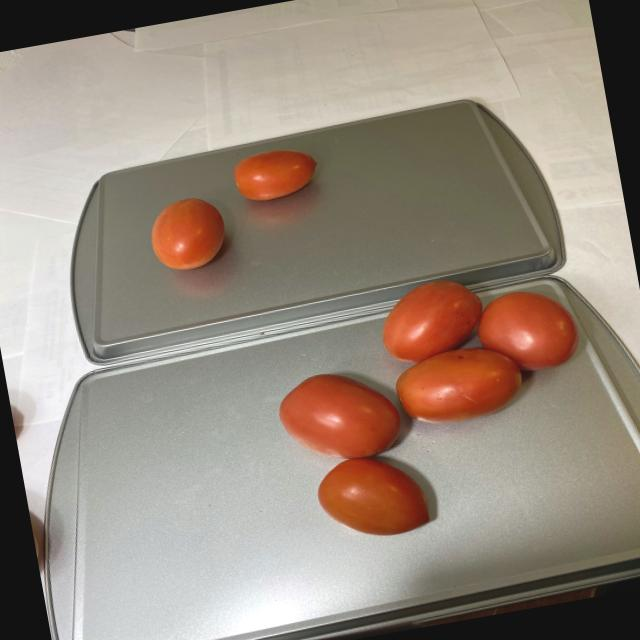tomato: (262, 260, 612, 554), (140, 142, 336, 281)
